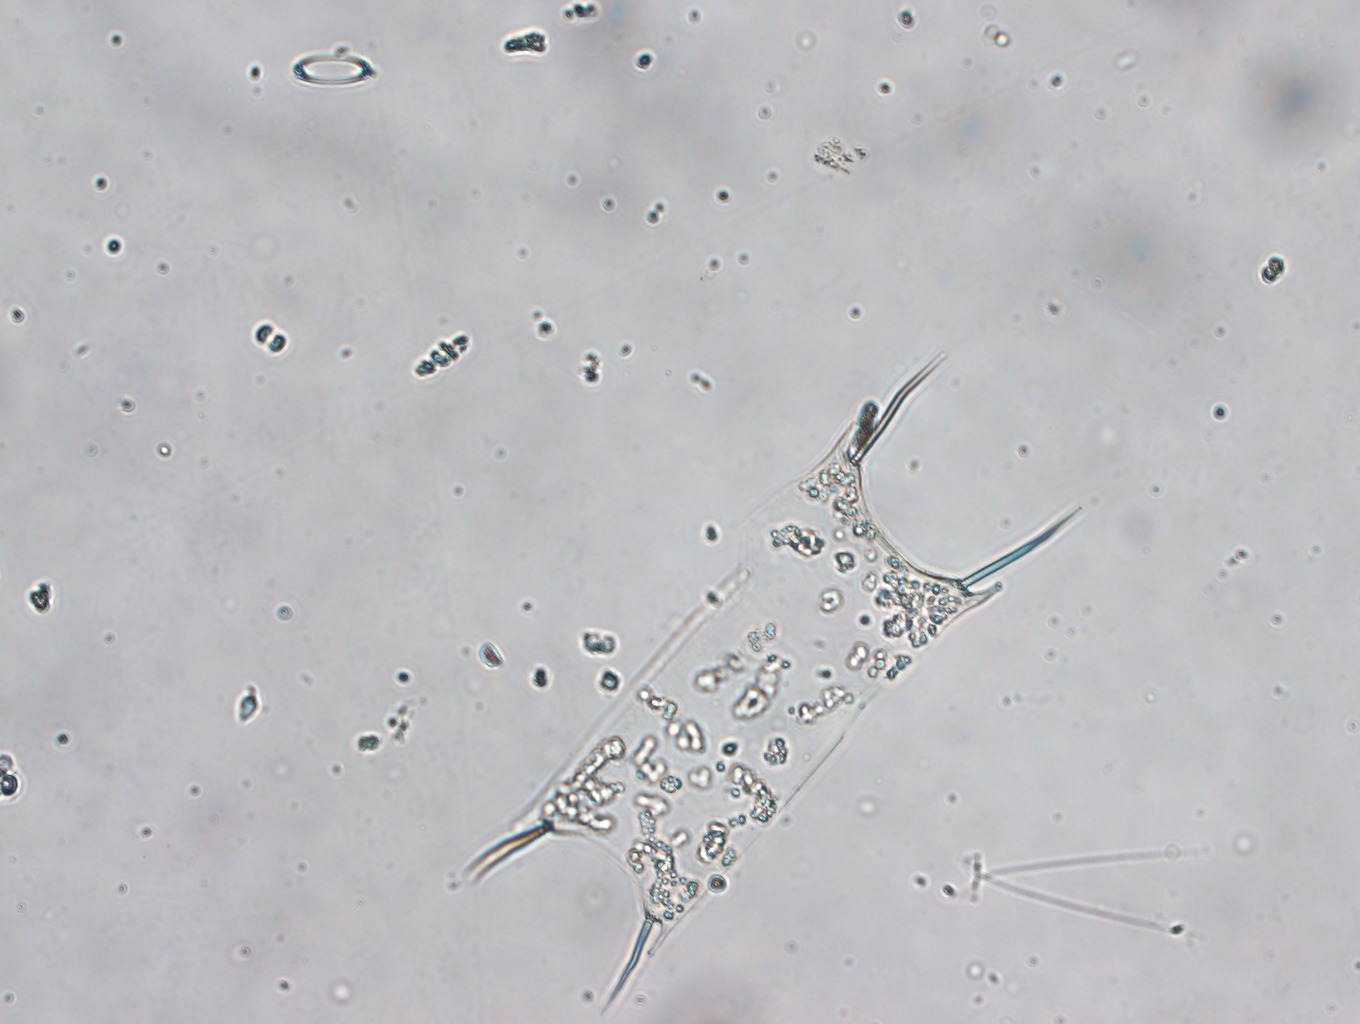biddulphia: (464, 350, 1082, 1021)
